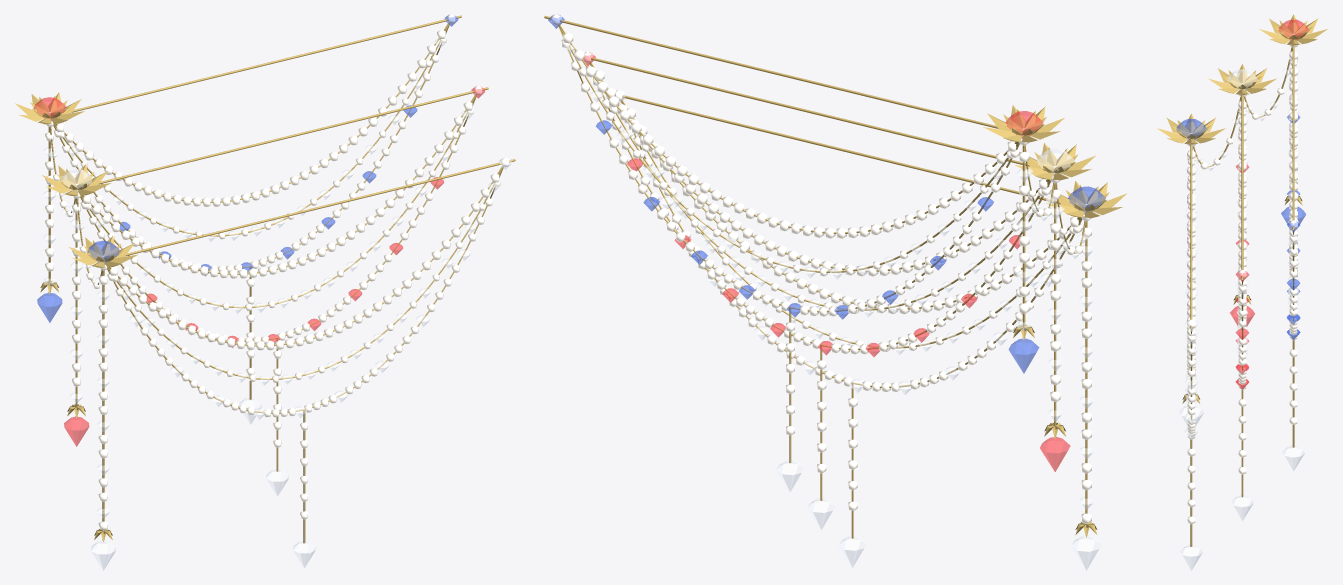
The model's file is ramou.glb.
The picture shows the model from 3 angles, left to right: view 1: azimuth 30°, elevation 25°; view 2: azimuth 150°, elevation 25°; view 3: azimuth 270°, elevation 25°; orthographic projection. The views are drawn at different scales.
Parts seen in each view (by area): view 1: pearl_batch, gold_wire, hari_batch, gold_fitting, shuju_batch, lapis_batch; view 2: pearl_batch, gold_wire, hari_batch, gold_fitting, lapis_batch, shuju_batch; view 3: pearl_batch, hari_batch, gold_fitting, gold_wire, shuju_batch, lapis_batch.
Boxes of the visible parts, left/top/right/bottom form: pearl_batch: left=45, top=14, right=509, bottom=530; gold_wire: left=48, top=15, right=515, bottom=543; hari_batch: left=43, top=39, right=511, bottom=570; gold_fitting: left=15, top=92, right=137, bottom=542; shuju_batch: left=34, top=86, right=484, bottom=446; lapis_batch: left=37, top=15, right=458, bottom=322; pearl_batch: left=551, top=14, right=1091, bottom=523; gold_wire: left=544, top=15, right=1087, bottom=538; hari_batch: left=563, top=43, right=1101, bottom=570; gold_fitting: left=983, top=105, right=1126, bottom=537; lapis_batch: left=548, top=14, right=1105, bottom=373; shuju_batch: left=583, top=52, right=1070, bottom=471; pearl_batch: left=1187, top=33, right=1297, bottom=524; hari_batch: left=1179, top=40, right=1304, bottom=570; gold_fitting: left=1157, top=14, right=1327, bottom=403; gold_wire: left=1190, top=45, right=1294, bottom=546; shuju_batch: left=1230, top=19, right=1309, bottom=389; lapis_batch: left=1176, top=114, right=1305, bottom=339.
Bounding box in the file's own units: 13.36 × 13.74 × 4.72.
